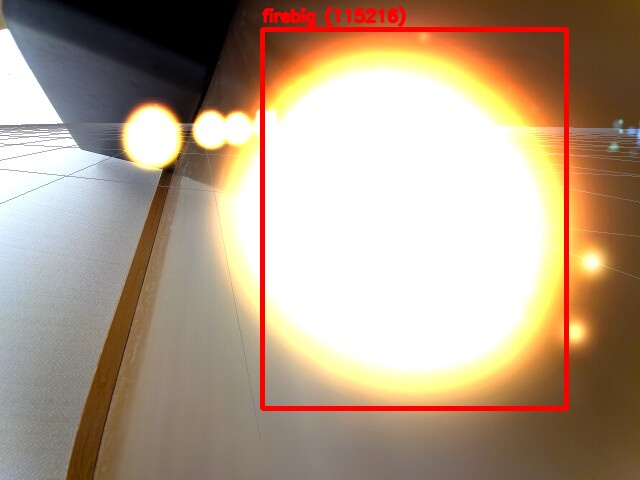firebig: (262, 29, 566, 408)
